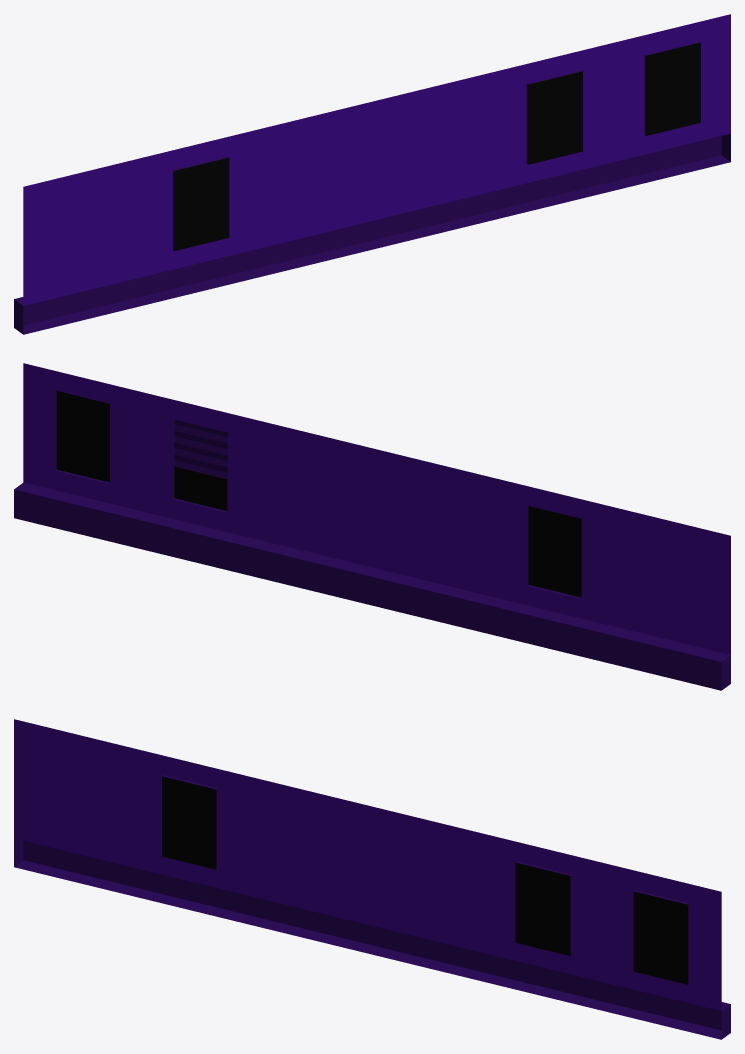
File: RunnablePart3.fbx
The picture shows the model from 3 angles, top to bottom: view 1: azimuth 30°, elevation 25°; view 2: azimuth 150°, elevation 25°; view 3: azimuth 330°, elevation 25°; orthographic projection.
Parts seen in each view (by area): view 1: Plane.002; view 2: Plane.002; view 3: Plane.002.
Part boxes in pixels (bbox=[...]): Plane.002: bbox=[14, 14, 730, 334]; Plane.002: bbox=[14, 363, 730, 690]; Plane.002: bbox=[14, 719, 730, 1039].
Size of the model in its own units: 10000 by 2000 by 270.
